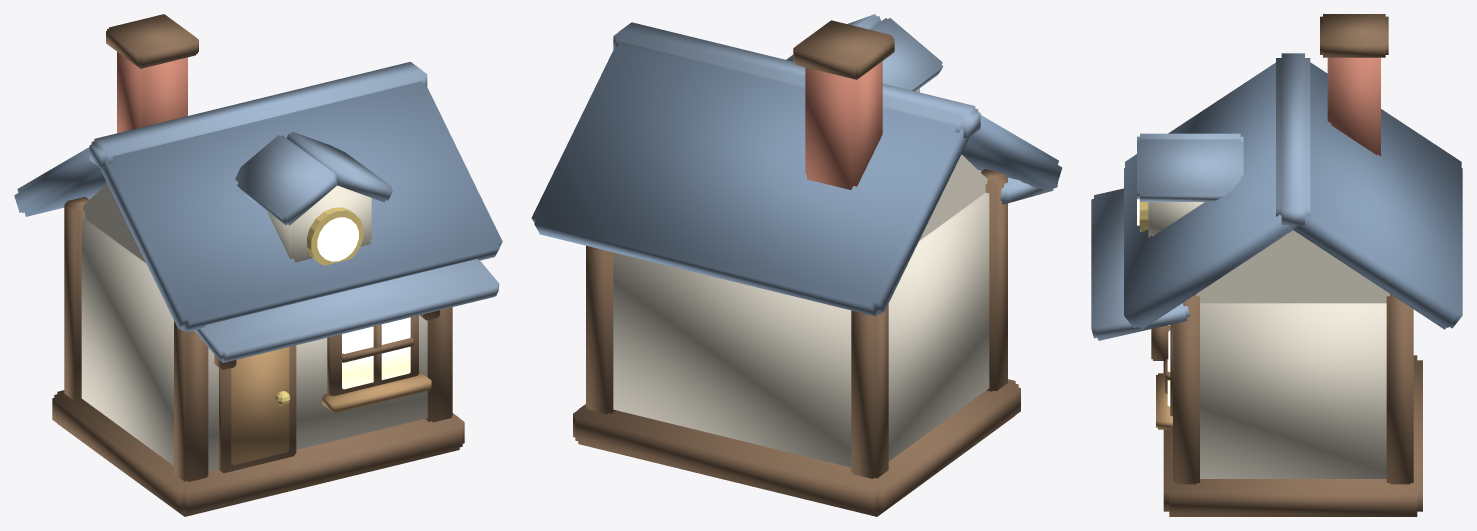
The model's file is station-arrivals.glb.
The picture shows the model from 3 angles, left to right: view 1: azimuth 30°, elevation 25°; view 2: azimuth 150°, elevation 25°; view 3: azimuth 270°, elevation 25°; orthographic projection. The views are drawn at different scales.
Visible parts, largest first — view 1: RoofFront, Walls, Plinth, Canopy, RoofRidge, DoorPanel, DormerRoofL, Post_-0.36_-0.28, Chimney, Post_-0.36_0.28, ChimneyCap, RoofBack (+11 smaller); view 2: RoofBack, Walls, Plinth, Chimney, RoofRidge, Post_-0.36_0.28, Post_0.36_0.28, Post_-0.36_-0.28, ChimneyCap, RoofFront, DormerRoofL, GableFill (+1 smaller); view 3: Walls, RoofBack, RoofFront, Plinth, GableFill, DormerRoofR, RoofRidge, Canopy, Post_0.36_0.28, Post_0.36_-0.28, Chimney, ChimneyCap (+4 smaller).
Part boxes in pixels (<box>): RoofFront: <box>100,81,502,332</box>; Walls: <box>81,218,427,471</box>; Plinth: <box>52,390,464,516</box>; Canopy: <box>194,259,499,362</box>; RoofRidge: <box>89,61,427,168</box>; DoorPanel: <box>231,347,289,465</box>; DormerRoofL: <box>235,135,338,225</box>; Post_-0.36_-0.28: <box>174,321,208,481</box>; Chimney: <box>117,52,187,133</box>; Post_-0.36_0.28: <box>64,196,89,401</box>; ChimneyCap: <box>106,14,198,68</box>; RoofBack: <box>14,147,106,216</box>; RoofBack: <box>531,43,968,316</box>; Walls: <box>613,192,989,467</box>; Plinth: <box>573,379,1020,516</box>; Chimney: <box>805,61,882,189</box>; RoofRidge: <box>613,22,980,138</box>; Post_-0.36_0.28: <box>851,304,888,478</box>; Post_0.36_0.28: <box>586,245,615,413</box>; Post_-0.36_-0.28: <box>980,169,1007,391</box>; ChimneyCap: <box>793,20,894,79</box>; RoofFront: <box>961,115,1062,190</box>; DormerRoofL: <box>870,18,943,91</box>; GableFill: <box>919,154,987,240</box>; Walls: <box>1200,303,1386,478</box>; RoofBack: <box>1293,62,1462,329</box>; RoofFront: <box>1124,62,1293,329</box>; Plinth: <box>1163,355,1422,516</box>; GableFill: <box>1196,230,1389,303</box>; DormerRoofR: <box>1137,139,1243,201</box>; RoofRidge: <box>1276,53,1310,227</box>; Canopy: <box>1091,188,1190,340</box>; Post_0.36_0.28: <box>1386,294,1413,484</box>; Post_0.36_-0.28: <box>1173,294,1199,484</box>; Chimney: <box>1327,57,1380,155</box>; ChimneyCap: <box>1320,14,1388,57</box>.
Bounding box in the file's own units: 0.96 × 1.12 × 0.9739.
